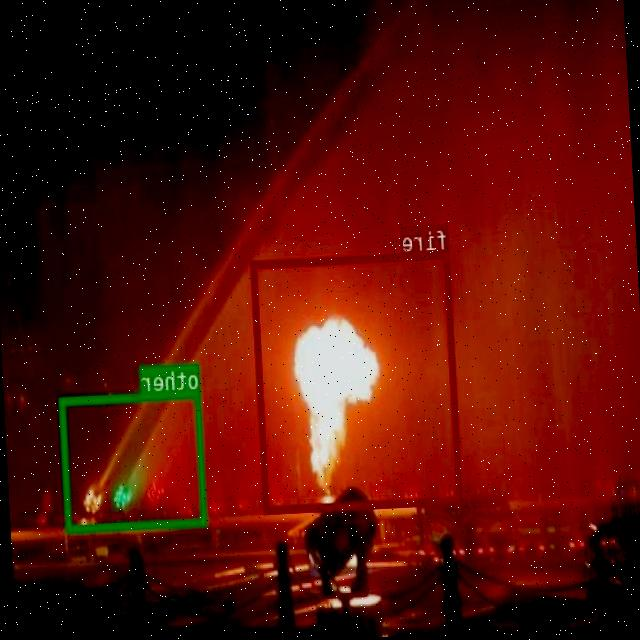fire: (252, 250, 463, 512)
